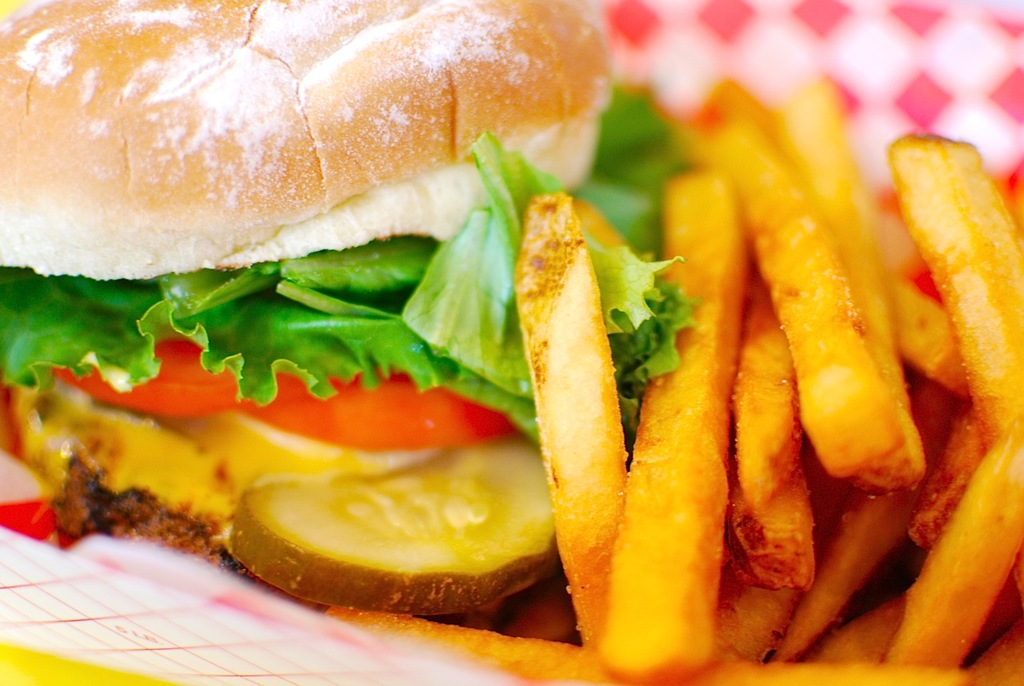French fries: (364, 54, 995, 655)
